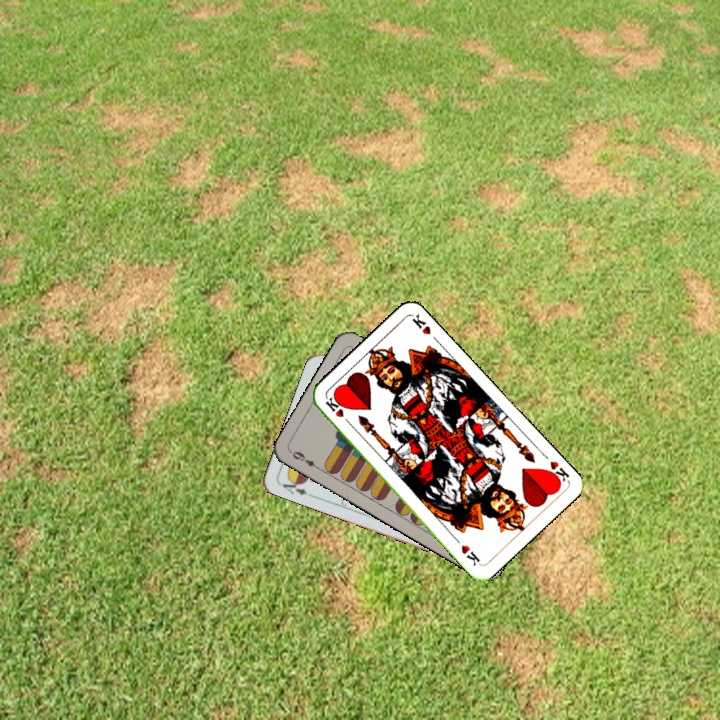E9: (288, 447, 324, 473)
EA: (276, 474, 316, 500)
HK: (321, 393, 354, 428), (542, 457, 572, 488)
